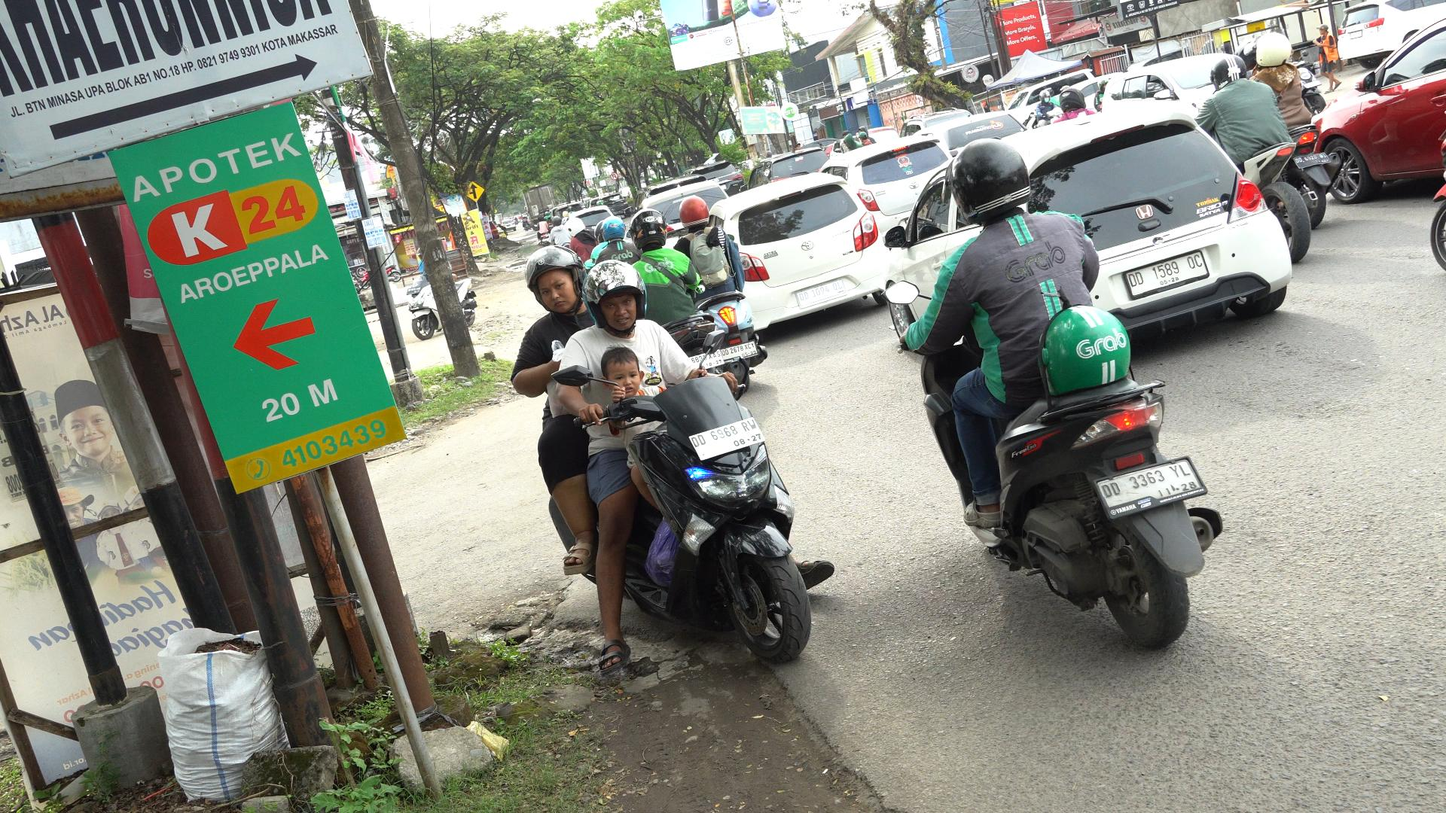number-plate: (690, 413, 767, 472)
